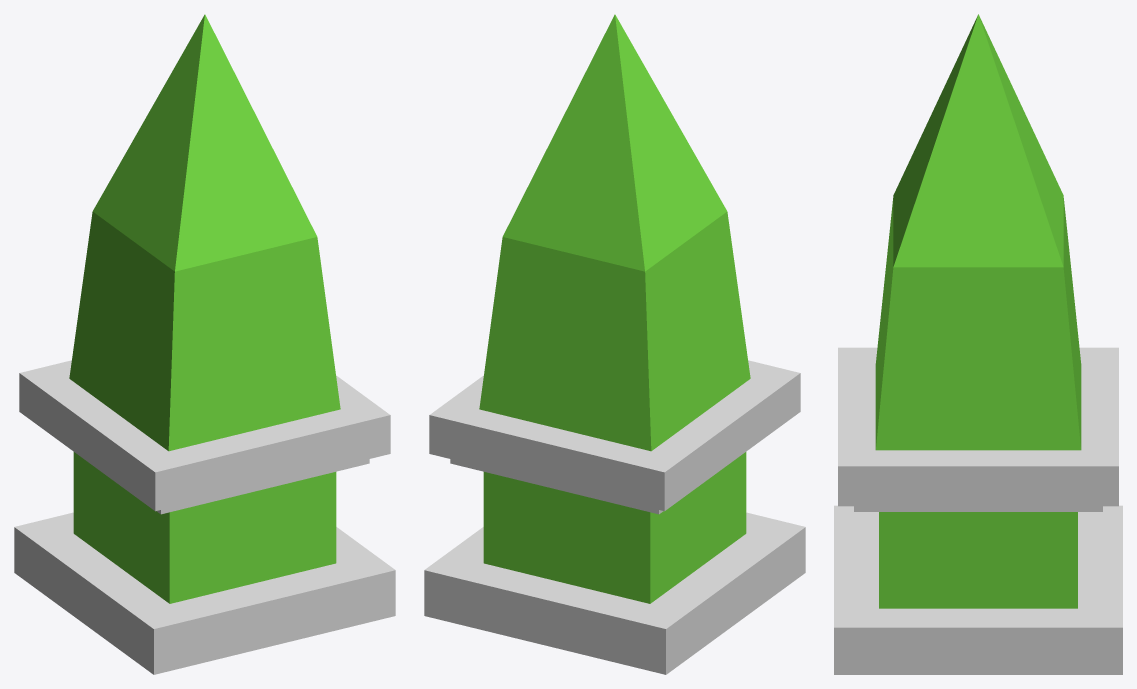
Rendered from Obelisk.fbx.
3 renders of one model, left to right at view 1: azimuth 30°, elevation 25°; view 2: azimuth 150°, elevation 25°; view 3: azimuth 270°, elevation 25°, orthographic. The views are drawn at different scales.
Visible parts, largest first — view 1: Obelisk; view 2: Obelisk; view 3: Obelisk.
Part boxes in pixels (box(x1,y1,x2,y2)): Obelisk: box(14, 14, 395, 674); Obelisk: box(424, 14, 805, 674); Obelisk: box(834, 14, 1122, 674).
Size of the model in its own units: 108 by 247 by 108.
